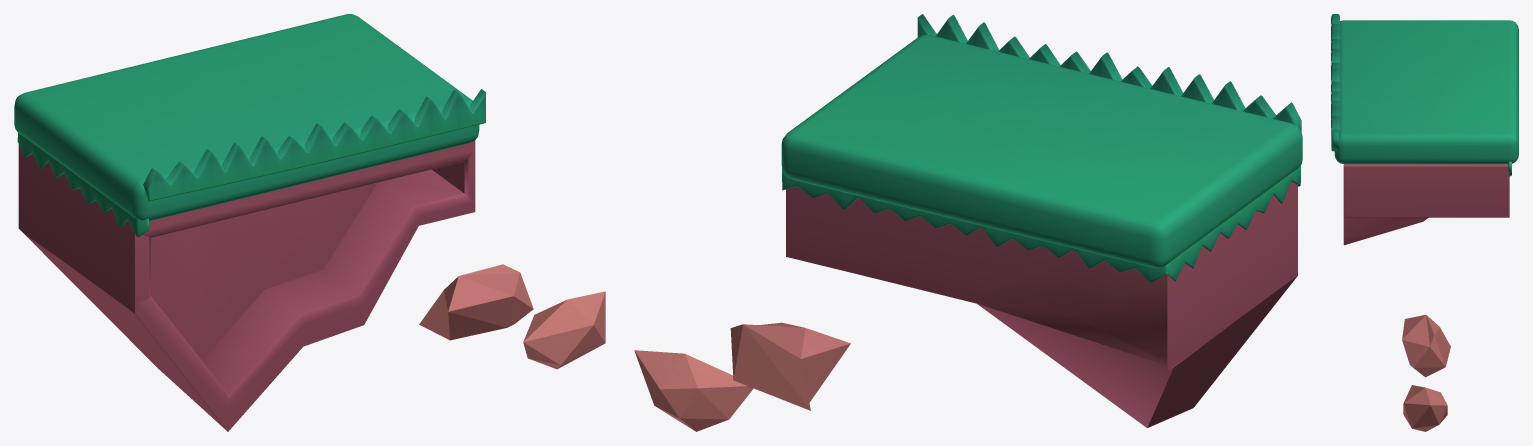
The model's file is moreplatforms.fbx.
The picture shows the model from 3 angles, left to right: view 1: azimuth 30°, elevation 25°; view 2: azimuth 150°, elevation 25°; view 3: azimuth 270°, elevation 25°; orthographic projection. The views are drawn at different scales.
Visible parts, largest first — view 1: bottom_B.001, Platform_B.001, Grassplane.005, Rock02.002, Rock02.001, Grassplane.004; view 2: Platform_B.001, bottom_B.001, Rock02.002, Grassplane.004, Rock02.001, Grassplane.005; view 3: Platform_B.001, bottom_B.001, Rock02.002, Rock02.001, Grassplane.005.
Boxes of the visible parts, x1,y1,x2,y2 form: bottom_B.001: (18,140,475,431); Platform_B.001: (14,14,479,221); Grassplane.005: (143,89,485,201); Rock02.002: (419,264,533,340); Rock02.001: (523,291,605,369); Grassplane.004: (17,133,148,237); Platform_B.001: (781,35,1302,268); bottom_B.001: (786,181,1297,427); Rock02.002: (730,322,850,410); Grassplane.004: (782,165,1300,282); Rock02.001: (634,350,753,431); Grassplane.005: (917,14,1301,130); Platform_B.001: (1334,20,1518,164); bottom_B.001: (1343,164,1509,245); Rock02.002: (1402,314,1450,377); Rock02.001: (1403,385,1447,431); Grassplane.005: (1331,14,1339,151).
Size of the model in its own units: 2.43 by 1.59 by 1.04.
1 material, 1 textured.
